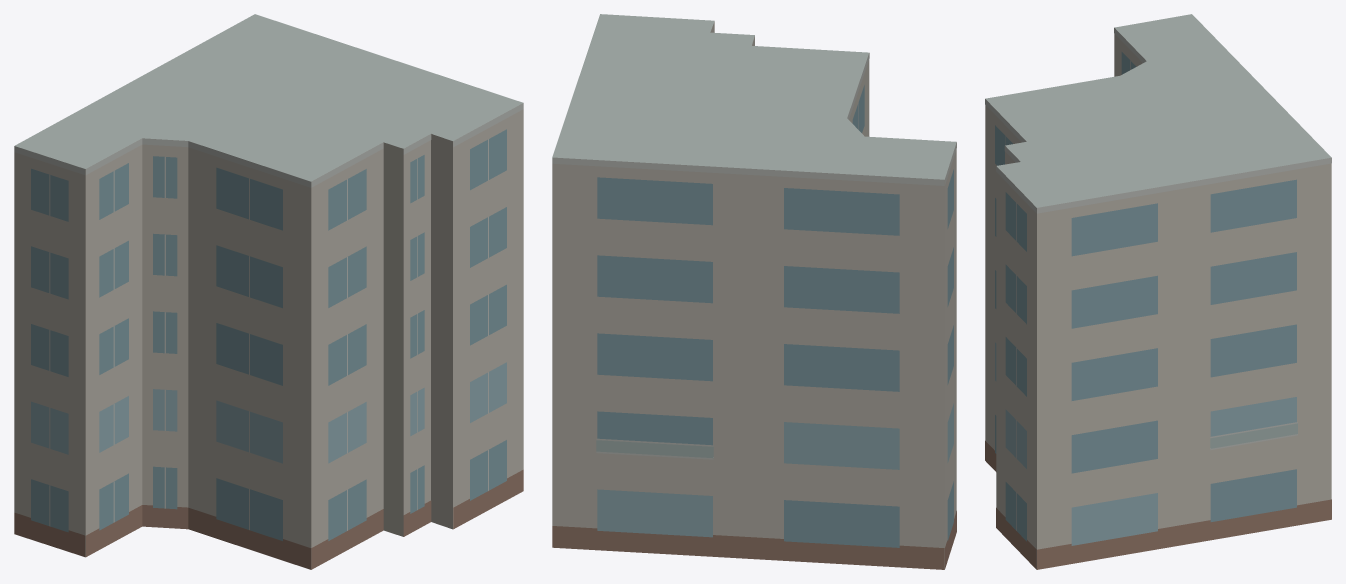
Rendered from survey-upis-32759108.glb.
3 views of the same model, side by side, from view 1: azimuth 30°, elevation 25°; view 2: azimuth 150°, elevation 25°; view 3: azimuth 270°, elevation 25° (orthographic). The views are drawn at different scales.
Visible parts, largest first — view 1: survey-upis-32759108.tmp; view 2: survey-upis-32759108.tmp; view 3: survey-upis-32759108.tmp.
Part boxes in pixels (<box>): survey-upis-32759108.tmp: <box>14,14,523,569</box>; survey-upis-32759108.tmp: <box>552,14,956,569</box>; survey-upis-32759108.tmp: <box>985,14,1331,569</box>.
Size of the model in its own units: 17.53 by 15.25 by 13.25.
